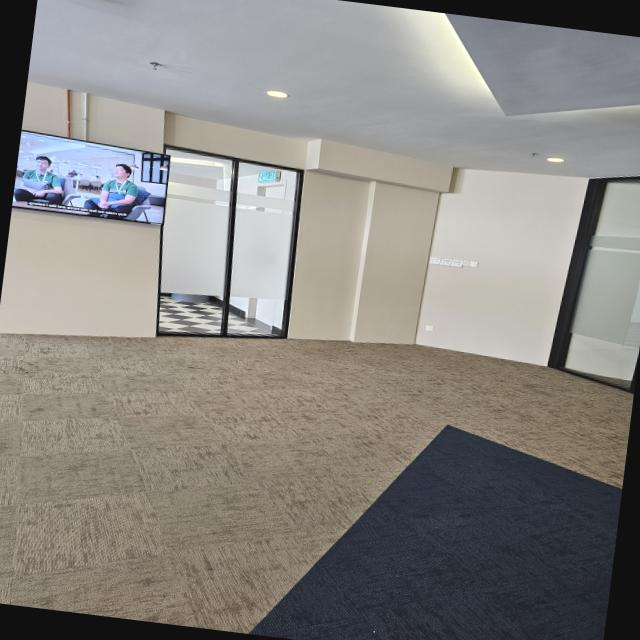footpath: (0, 333, 629, 640)
